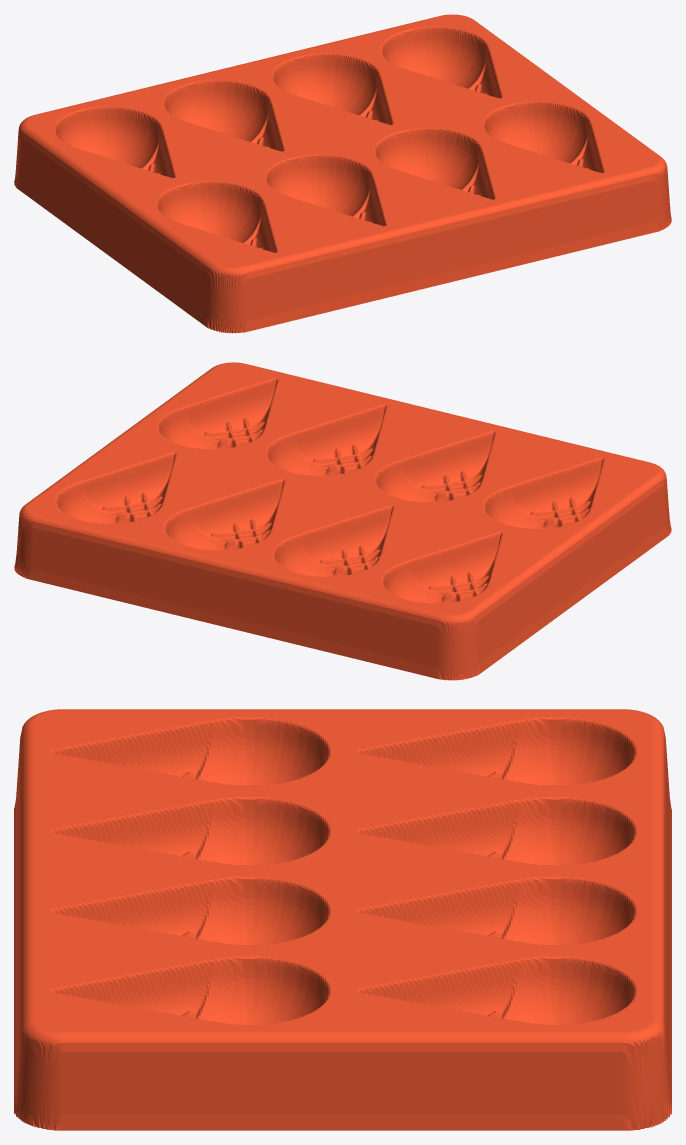
The model's file is mold.glb.
3 renders of one model, top to bottom at view 1: azimuth 30°, elevation 25°; view 2: azimuth 150°, elevation 25°; view 3: azimuth 270°, elevation 25°, orthographic. The views are drawn at different scales.
Parts seen in each view (by area): view 1: geometry_0; view 2: geometry_0; view 3: geometry_0.
Part boxes in pixels (x1,y1,x2,y2): geometry_0: (14,14,671,333); geometry_0: (14,362,671,680); geometry_0: (14,709,671,1130).
Size of the model in its own units: 0.1486 by 0.0185 by 0.1222.
